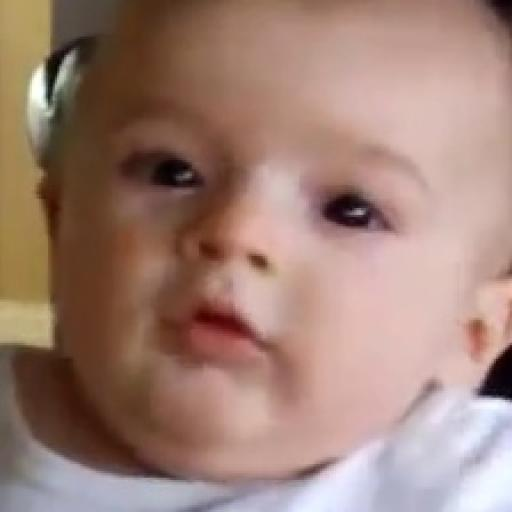Autism: (43, 25, 512, 510)
